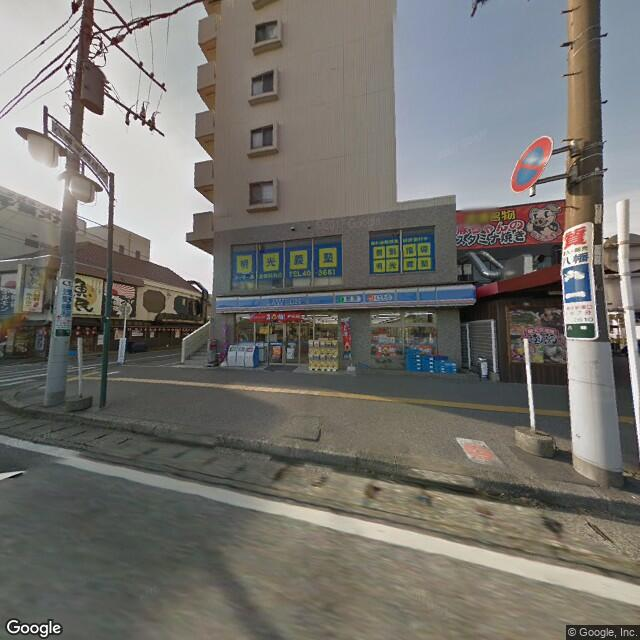lawson: (218, 279, 478, 315)
